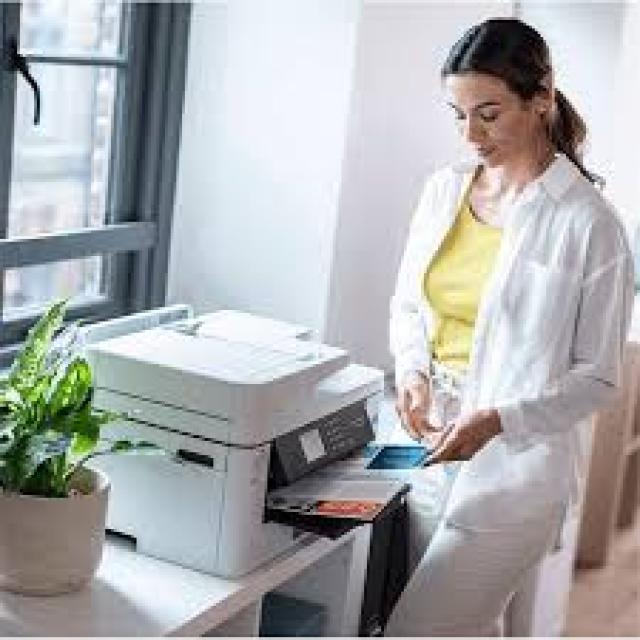printer: (74, 304, 384, 578)
